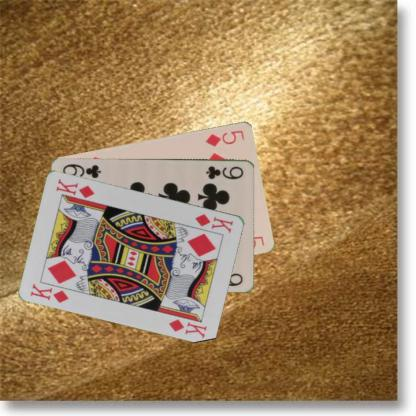5d: (203, 127, 246, 147)
9c: (203, 163, 245, 180)
Kd: (193, 211, 235, 234), (28, 281, 70, 304)
